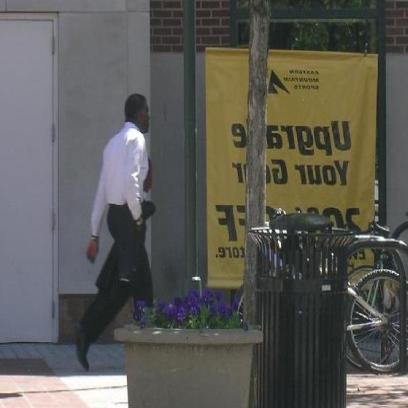ped: (74, 94, 157, 371)
